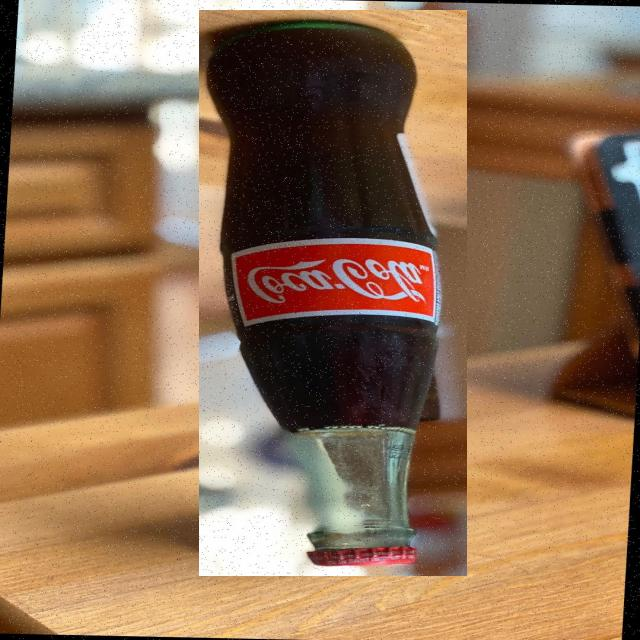coca-cola: (199, 10, 467, 576)
